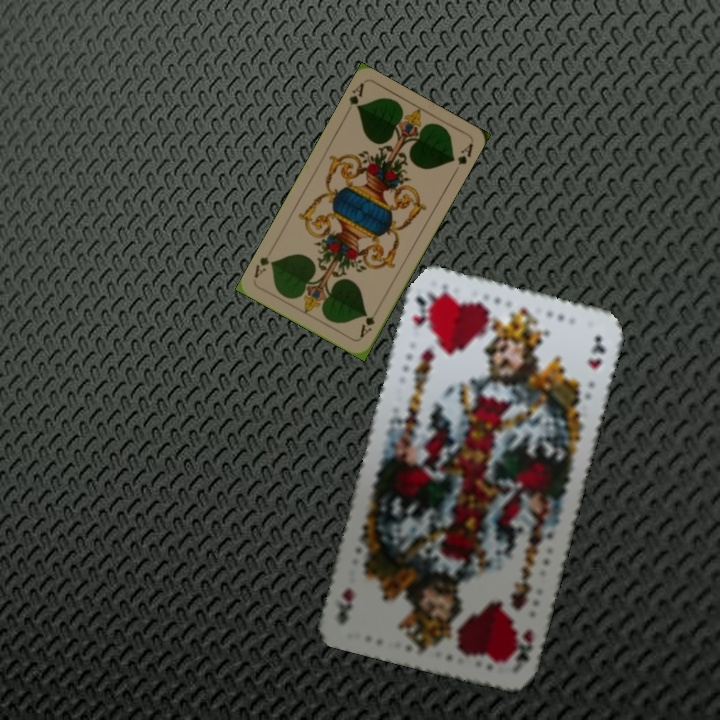GA: (356, 304, 382, 340), (345, 79, 366, 112)
HK: (504, 626, 536, 669), (408, 289, 435, 329)
